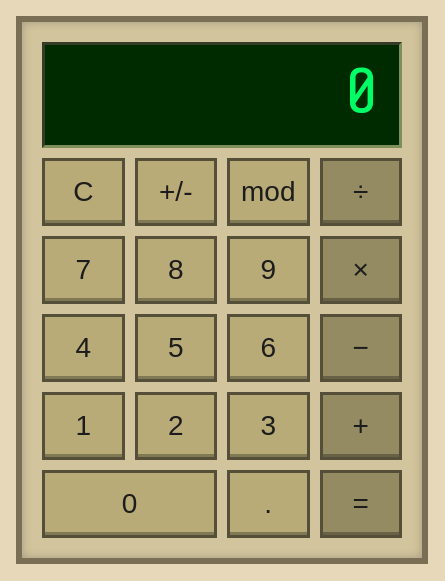
Test case: Calculator Functional Tests › should handle multiple decimal points correctly
Click the button "3" at (268,426), box [227,392,310,460]
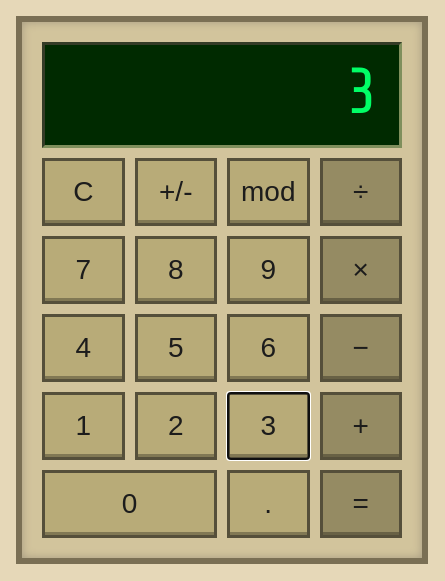
Click the button "." at (268,504), box [227,470,310,538]
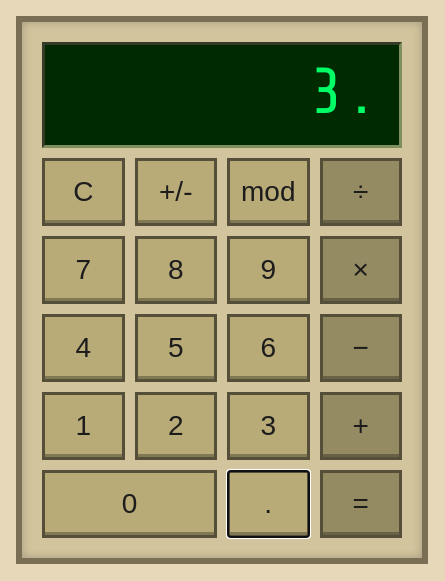
Click the button "1" at (83,426), box [42,392,124,460]
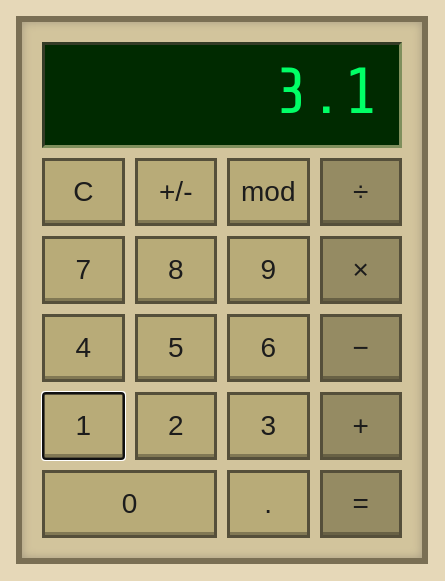
Click the button "." at (268,504), box [227,470,310,538]
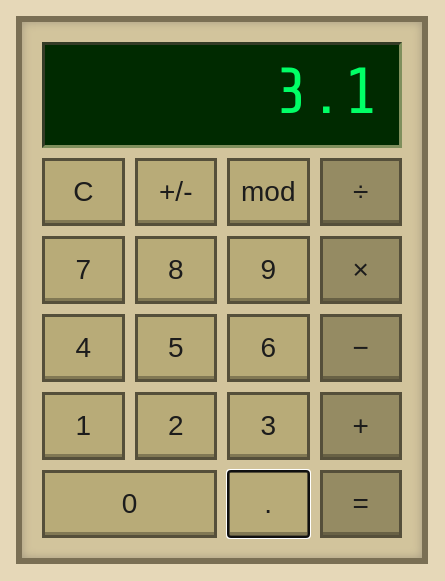
Click the button "4" at (83,348), box [42,314,124,382]
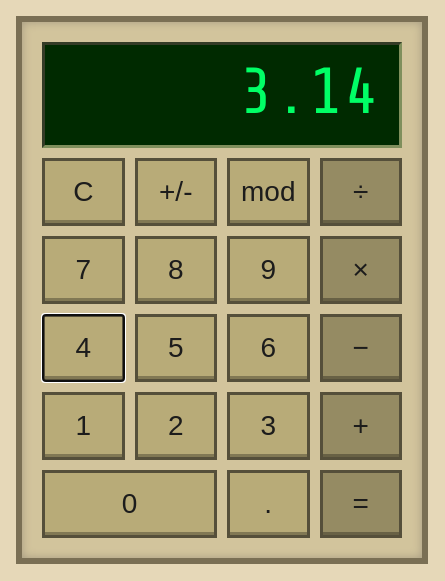
expect the text with test id "display" reads "3.14": met, box [239,55,379,129]
